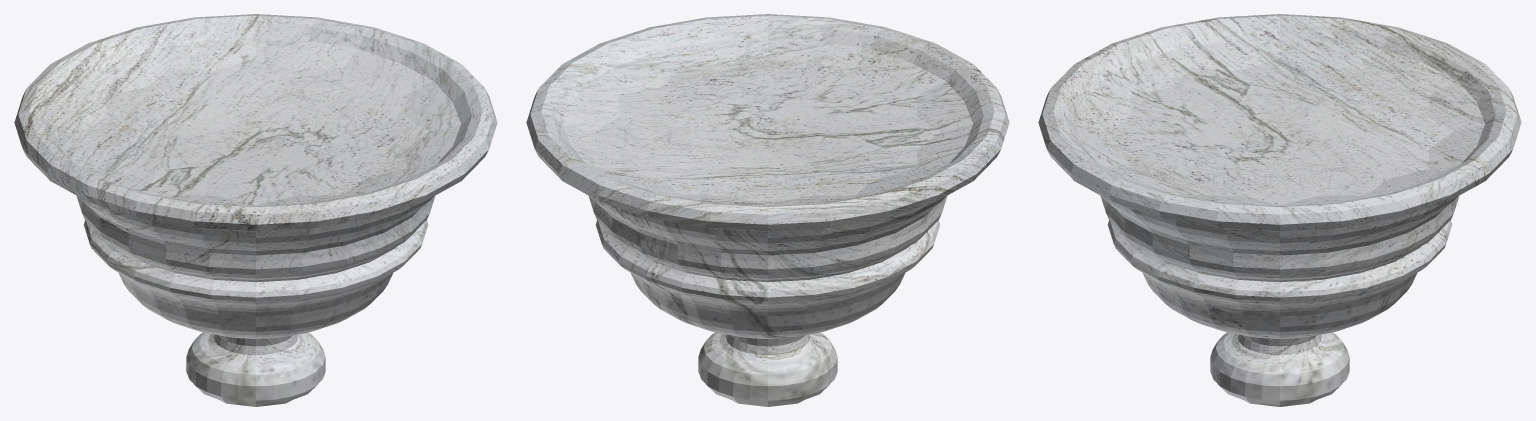
The model's file is Planter_A.fbx.
3 renders of one model, left to right at view 1: azimuth 30°, elevation 25°; view 2: azimuth 150°, elevation 25°; view 3: azimuth 270°, elevation 25°, orthographic.
Visible parts, largest first — view 1: Planter_A_LOD0; view 2: Planter_A_LOD0; view 3: Planter_A_LOD0.
Part boxes in pixels (left/top/right/bottom): Planter_A_LOD0: left=14, top=14, right=497, bottom=406; Planter_A_LOD0: left=526, top=14, right=1009, bottom=406; Planter_A_LOD0: left=1038, top=14, right=1521, bottom=406.
Size of what is drawn, in the model's own units: 702 by 447 by 702.
